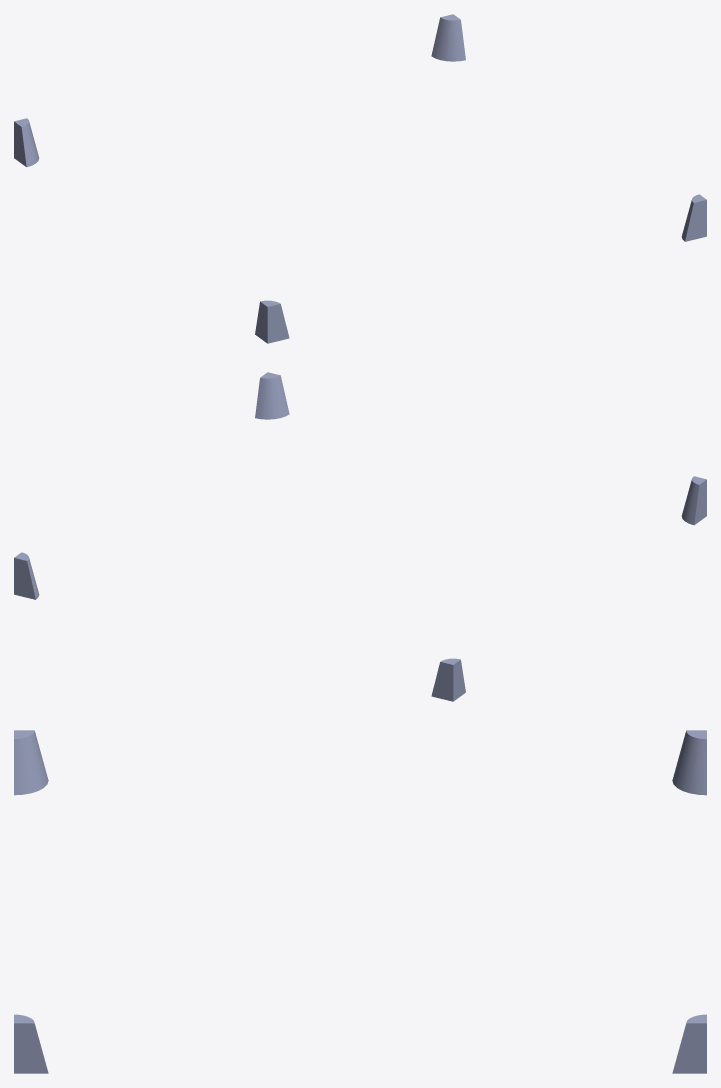
Rendered from road-crossroad-barrier.glb.
3 views of the same model, one above another, from view 1: azimuth 30°, elevation 25°; view 2: azimuth 150°, elevation 25°; view 3: azimuth 270°, elevation 25° (orthographic). The views are drawn at different scales.
Visible parts, largest first — view 1: road-crossroad-barrier; view 2: road-crossroad-barrier; view 3: road-crossroad-barrier.
Part boxes in pixels (bbox=[...]): road-crossroad-barrier: bbox=[14, 14, 706, 343]; road-crossroad-barrier: bbox=[14, 372, 706, 701]; road-crossroad-barrier: bbox=[14, 730, 706, 1073].
Bounding box in the file's own units: 1 × 0.08 × 1.
1 material, 1 textured.
